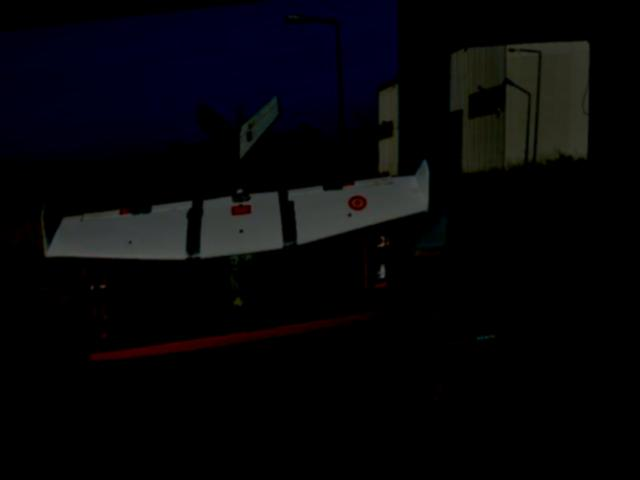iha: (13, 66, 475, 342)
